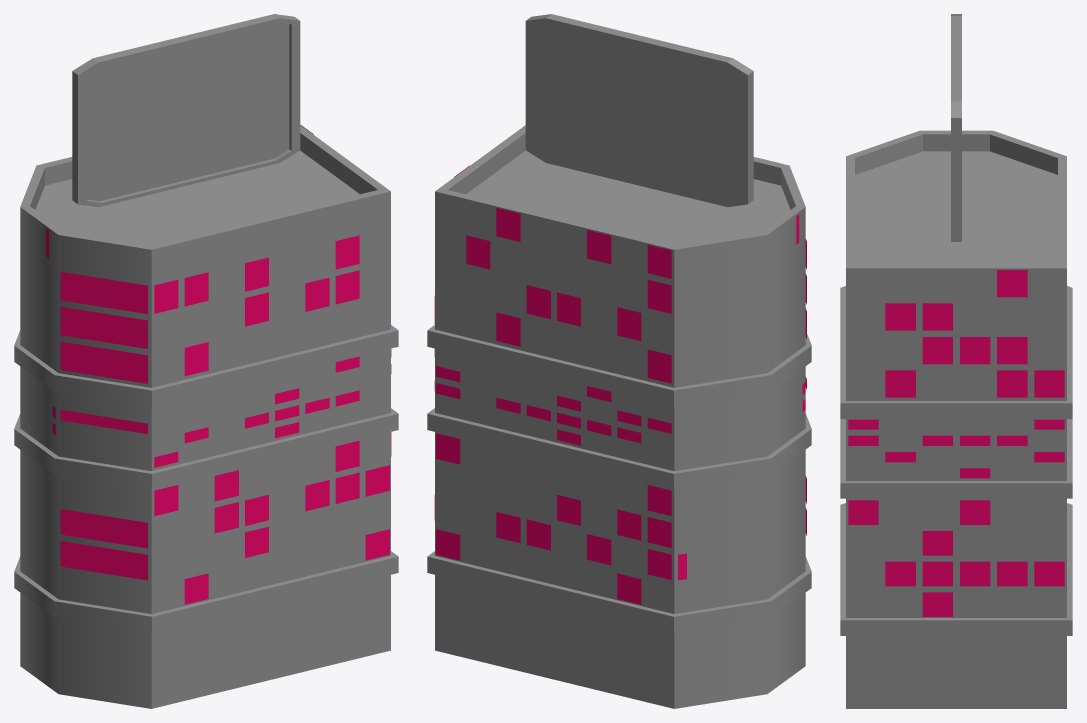
File: obj_building005.FBX
The picture shows the model from 3 angles, left to right: view 1: azimuth 30°, elevation 25°; view 2: azimuth 150°, elevation 25°; view 3: azimuth 270°, elevation 25°; orthographic projection. The views are drawn at different scales.
Parts seen in each view (by area): view 1: building005, Box018, Object017; view 2: building005, Box018, Object017; view 3: building005, Object017, Box018.
Part boxes in pixels (bbox=[...]): building005: bbox=[14, 125, 398, 708]; Box018: bbox=[72, 14, 300, 207]; Object017: bbox=[46, 125, 391, 604]; building005: bbox=[427, 125, 811, 708]; Box018: bbox=[525, 14, 753, 207]; Object017: bbox=[434, 165, 806, 604]; building005: bbox=[840, 130, 1072, 708]; Object017: bbox=[848, 270, 1064, 616]; Box018: bbox=[951, 14, 961, 241].
Bounding box in the file's own units: 3048 × 5807 × 2100.
